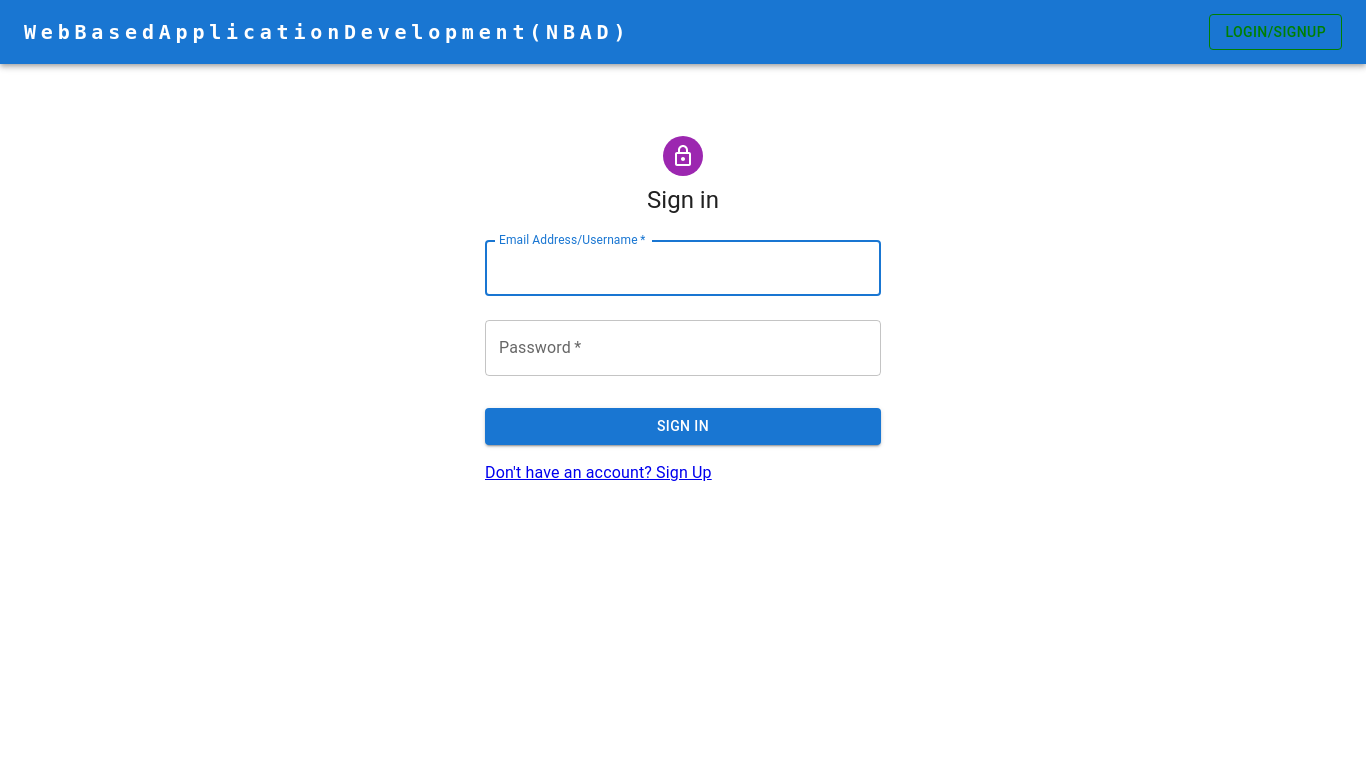
Scenario: Login Page › Should Show Validation Error when existing user Signup
This screenshot has width=1366, height=768.
Type "ramgopalhyndavbollepalli@gmail.com" into the field with id "email". click: point(683, 268)
box: [485,240,881,296]
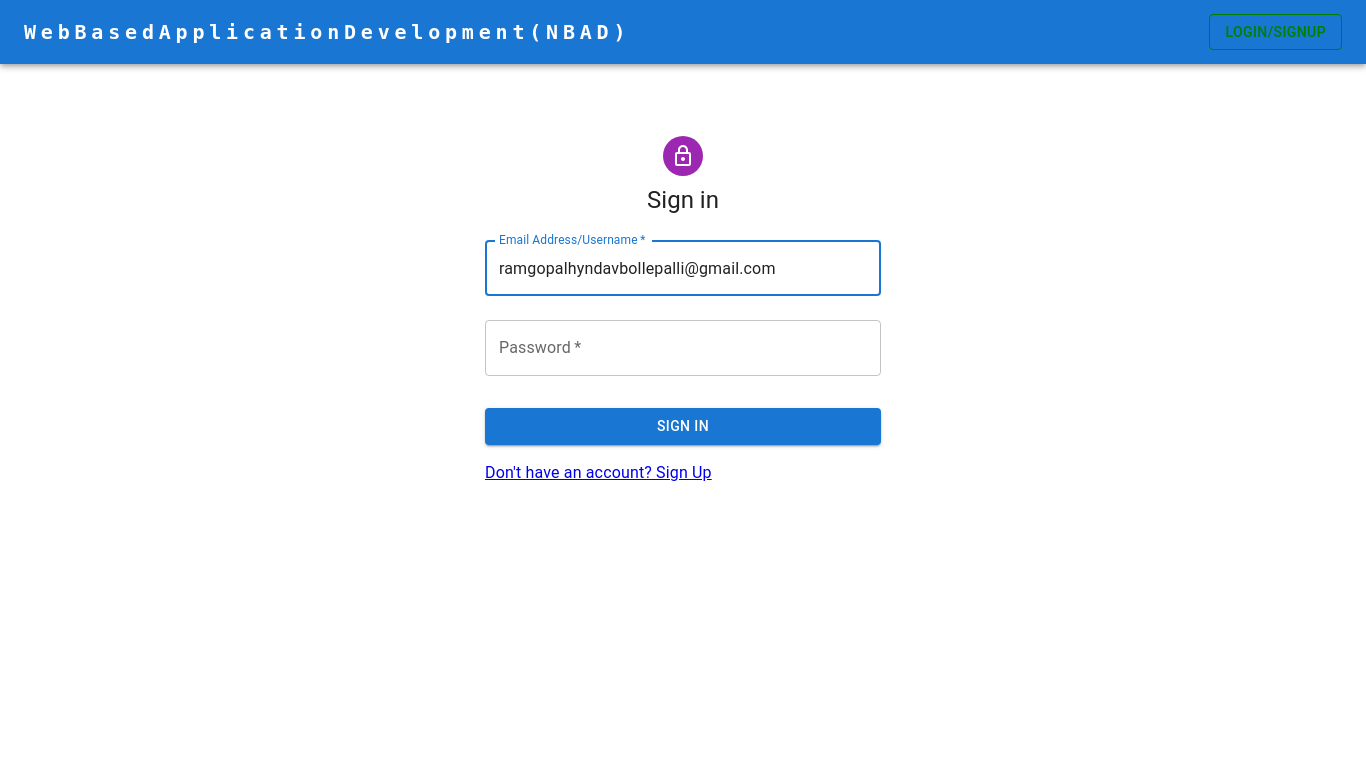
Type "abc" into the password field labelled "Password *". click: point(683, 348)
box: [485,320,881,376]
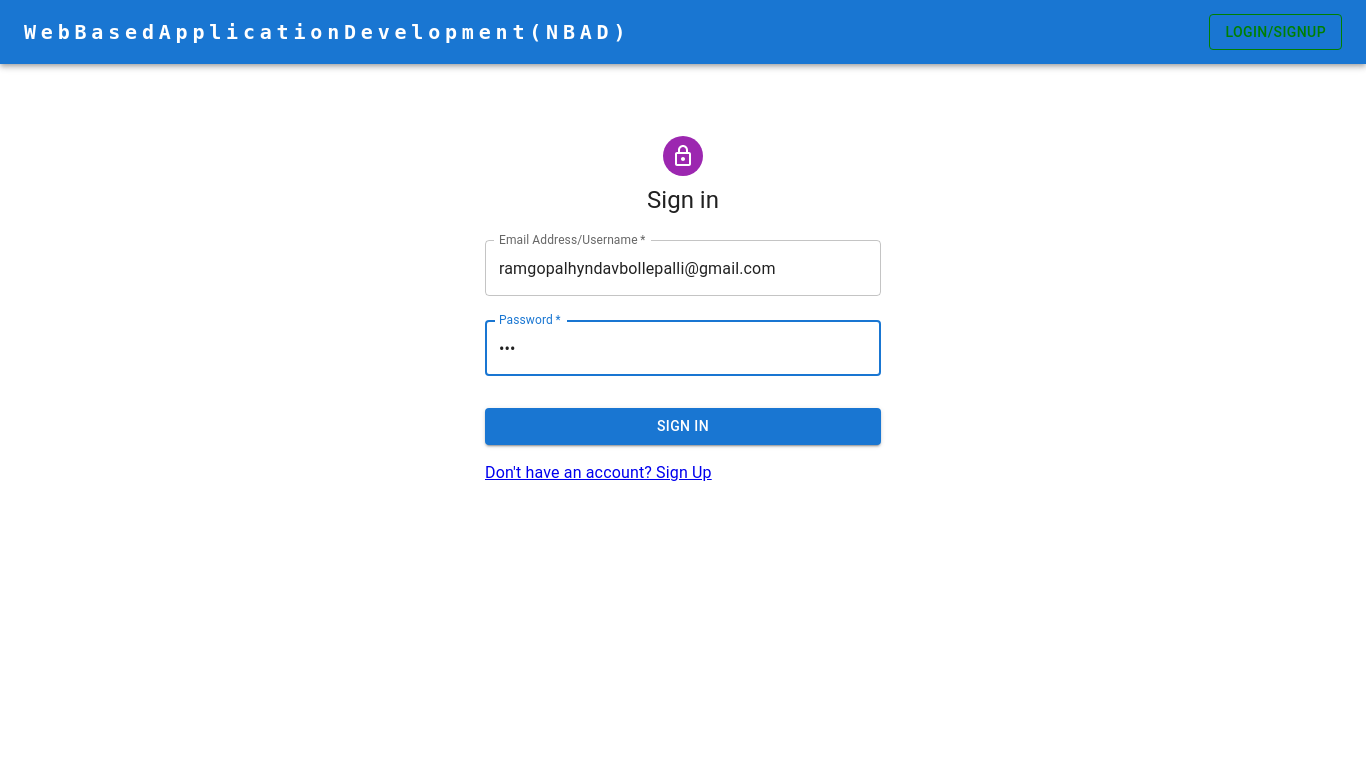
Click the button with id "submit". click: point(683, 427)
box: [485,408,881,445]
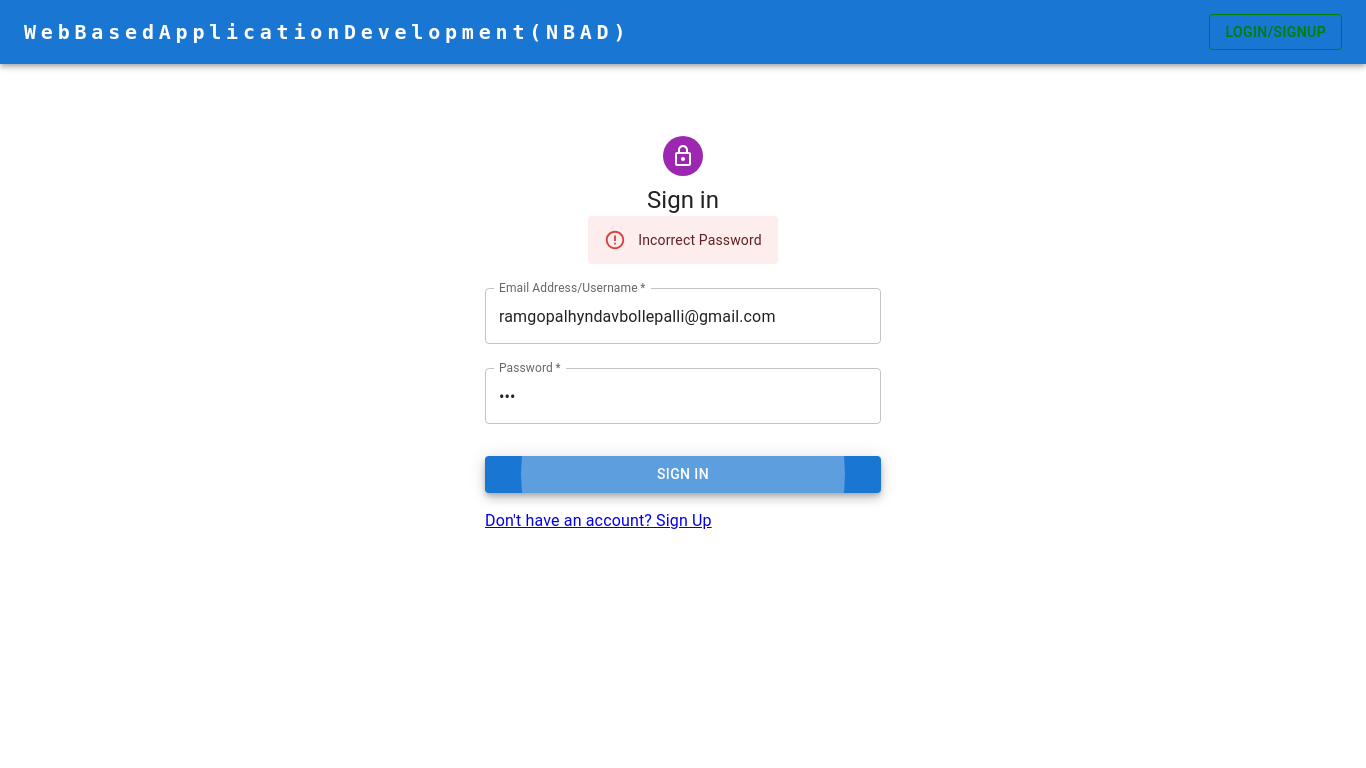
Result: the message with id "errormessage" reads "Incorrect Password" at [588,216,778,264]
